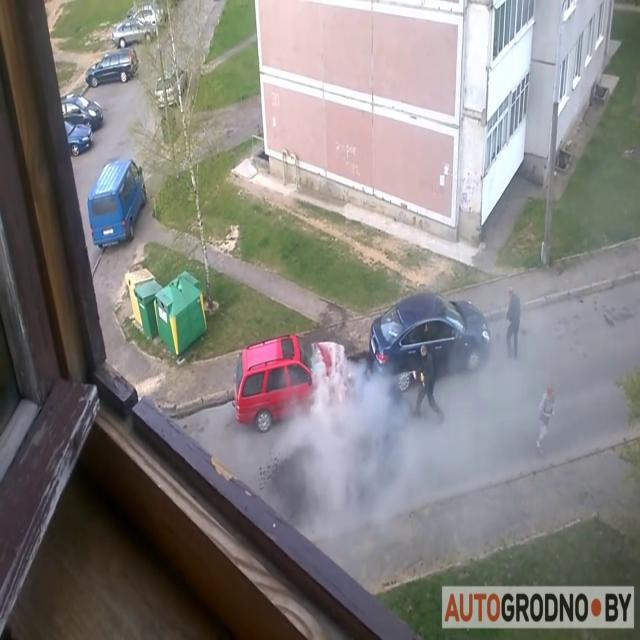Smoke: (303, 330, 612, 570)
